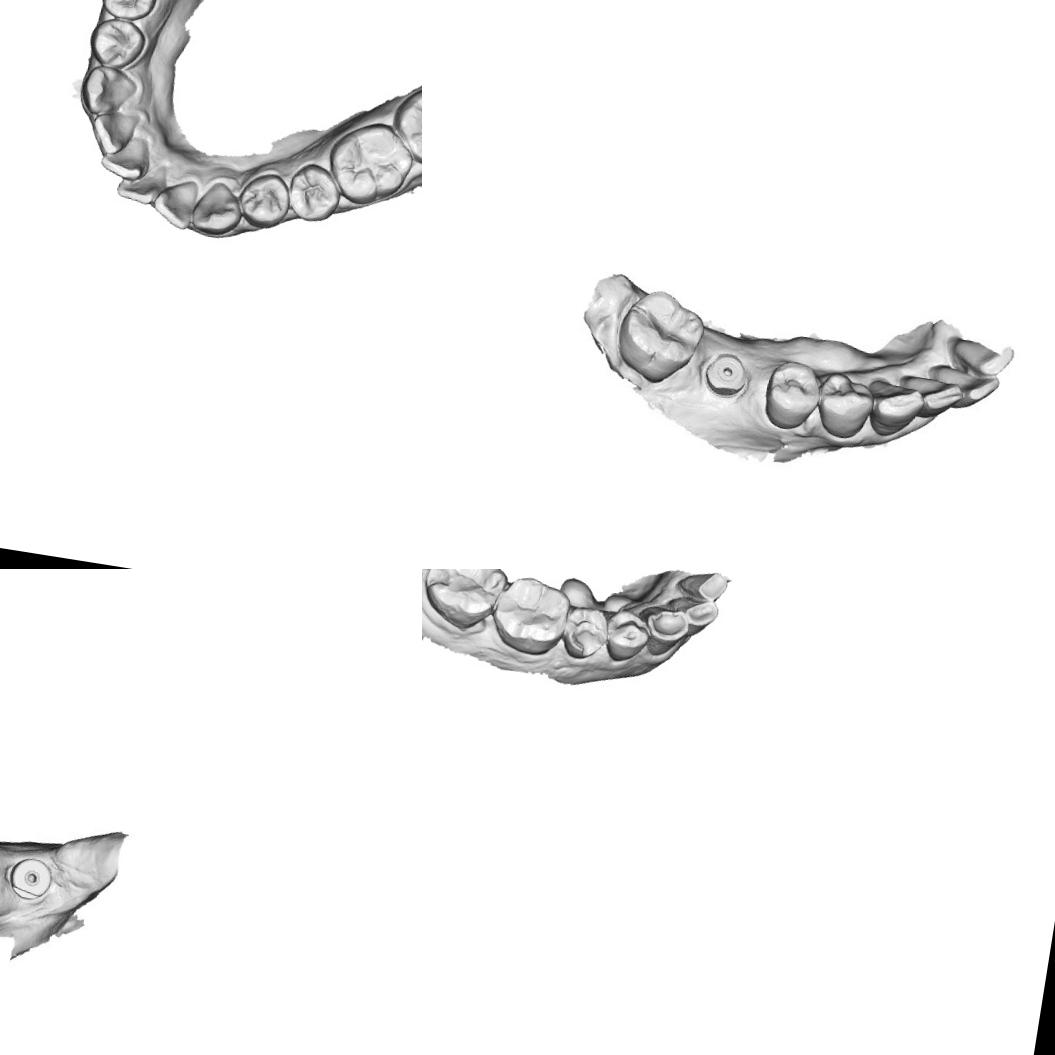canine: (861, 372, 926, 444), (77, 62, 141, 121), (190, 177, 246, 240), (634, 602, 692, 660)
implant: (698, 346, 756, 406), (5, 854, 58, 906)
incisor: (924, 358, 1000, 412), (896, 368, 964, 420), (148, 174, 200, 232), (98, 131, 154, 183), (88, 106, 142, 158), (115, 158, 170, 208), (662, 593, 720, 640), (674, 569, 729, 605)
molar: (606, 282, 710, 390), (322, 115, 419, 211), (487, 569, 575, 660), (422, 569, 512, 637), (386, 76, 422, 172)
premolar: (758, 353, 826, 439), (814, 372, 877, 444), (283, 160, 345, 225), (235, 167, 294, 232), (84, 13, 148, 72), (560, 602, 612, 664), (602, 607, 654, 666), (98, 0, 161, 24)
